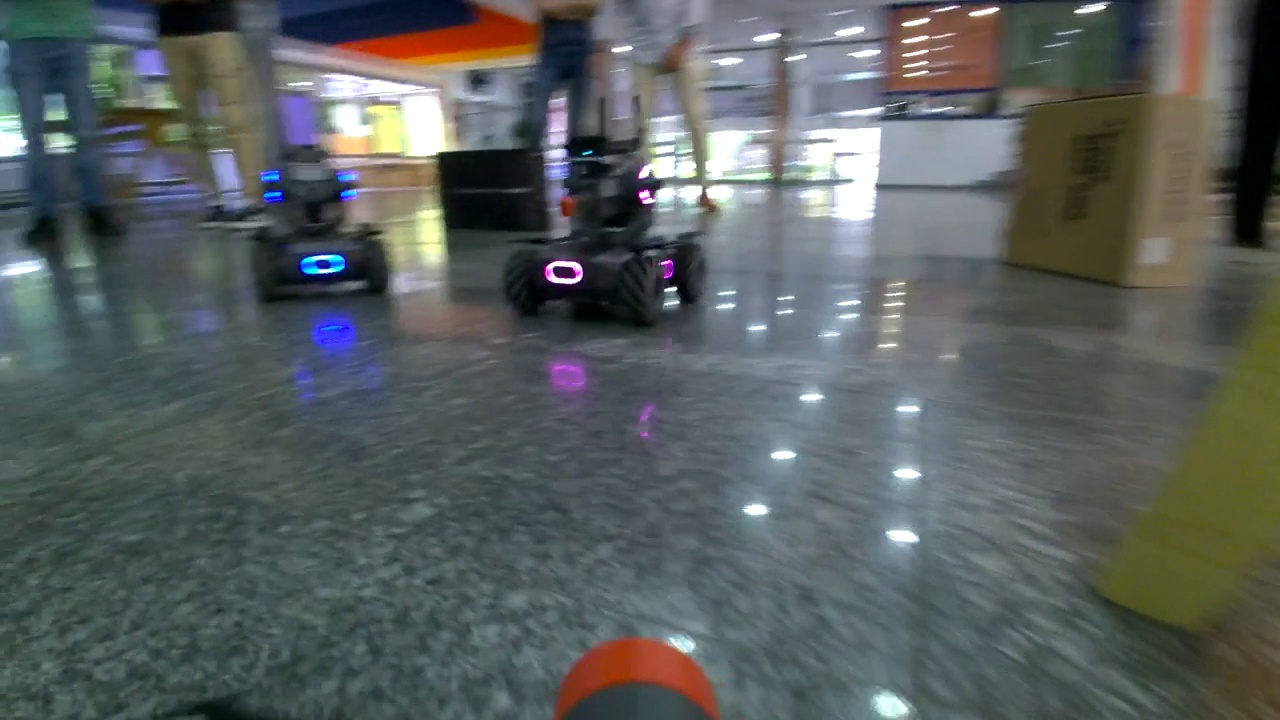robot: (510, 140, 705, 330), (241, 153, 392, 298)
